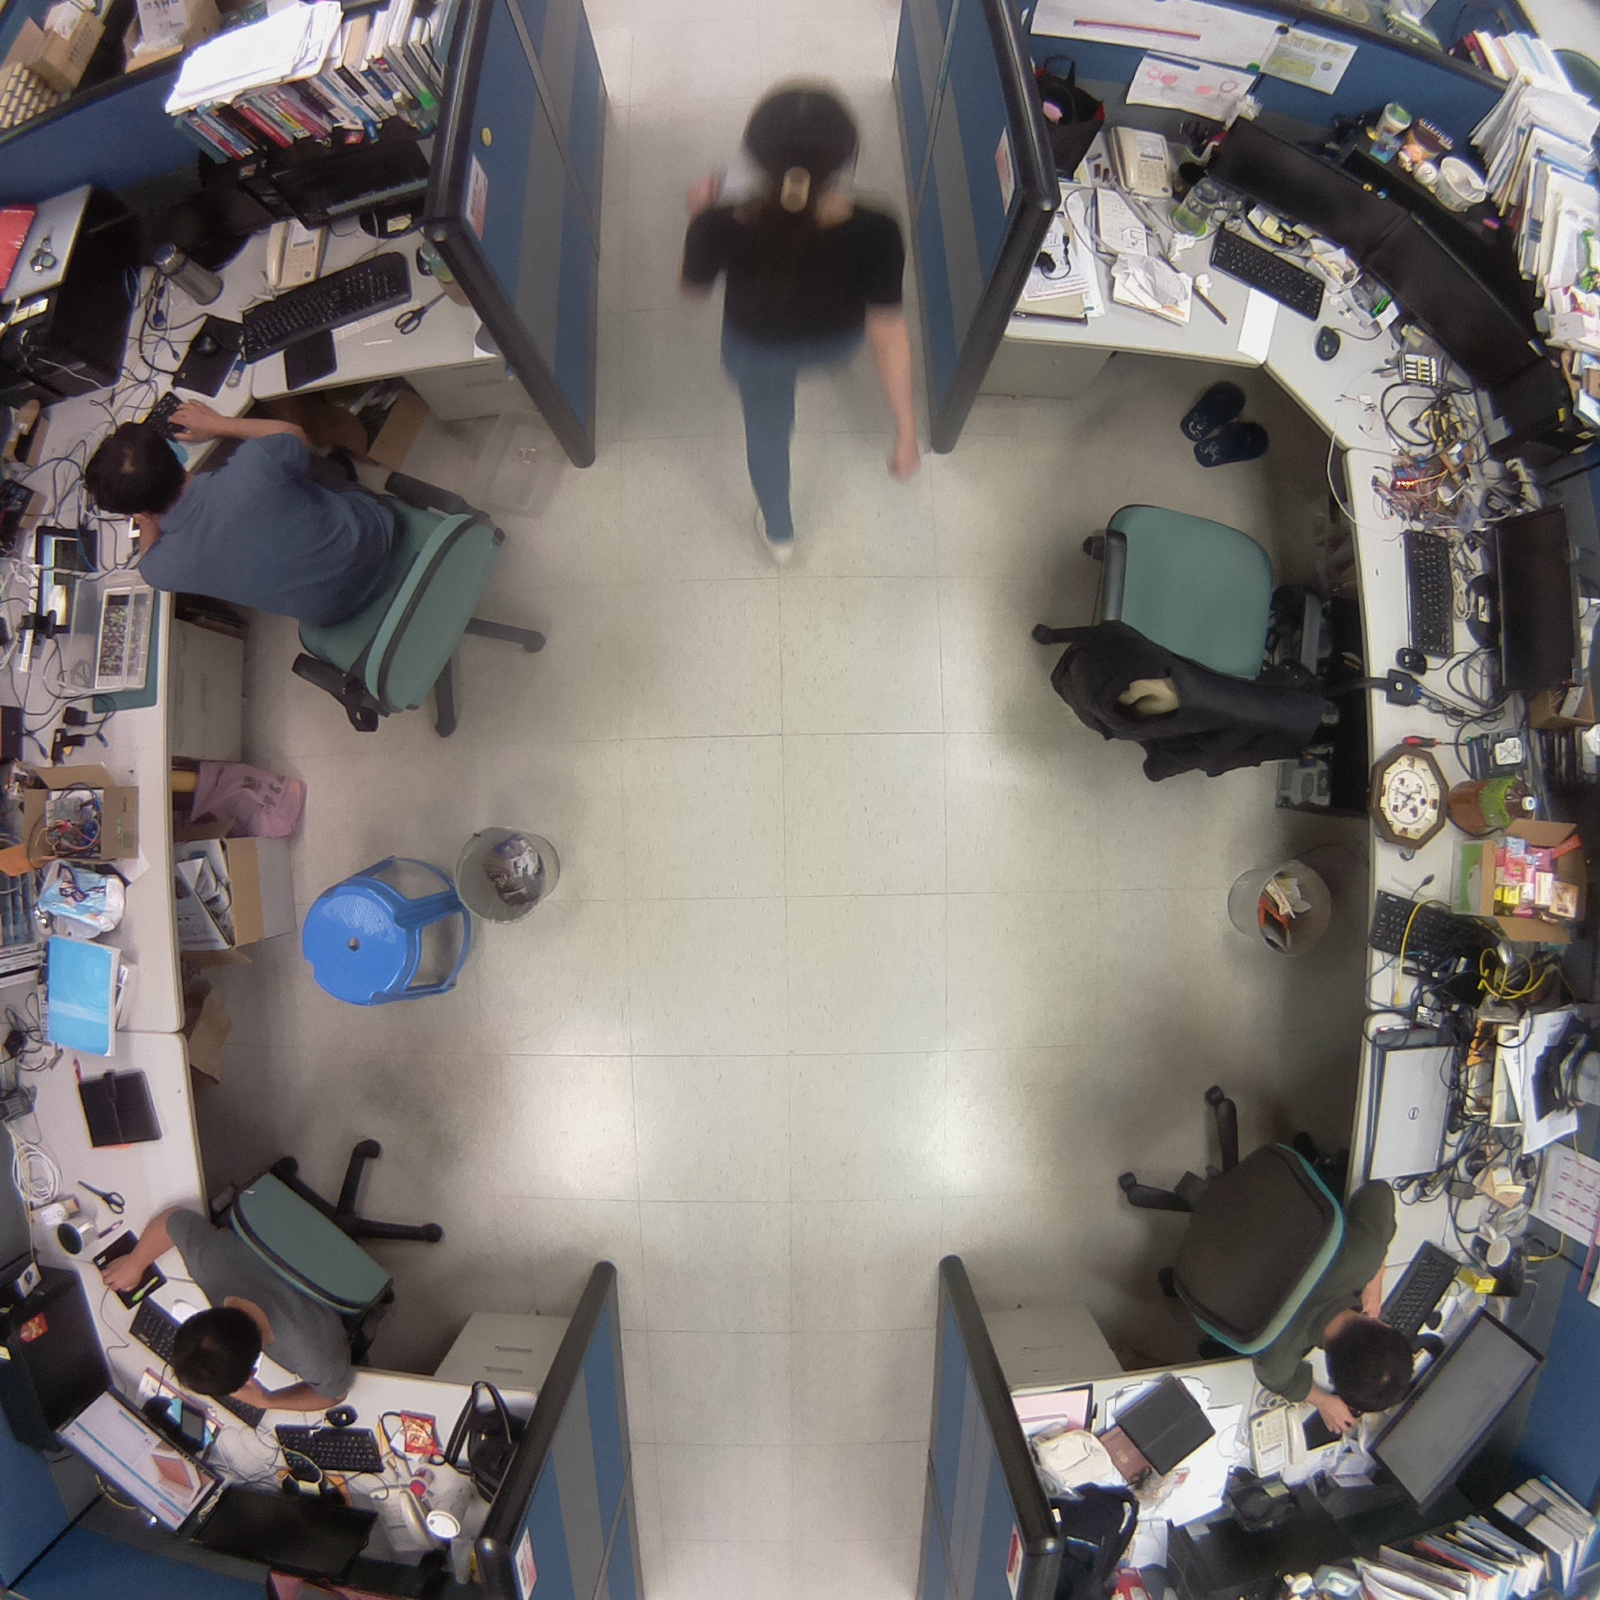chair: (1019, 473, 1358, 799)
head: (735, 74, 870, 202), (156, 1300, 268, 1402), (1319, 1306, 1419, 1420), (80, 420, 186, 522)
sitting: (73, 378, 570, 755), (1096, 1070, 1429, 1432), (89, 1119, 460, 1424)
walking: (667, 78, 932, 578)
